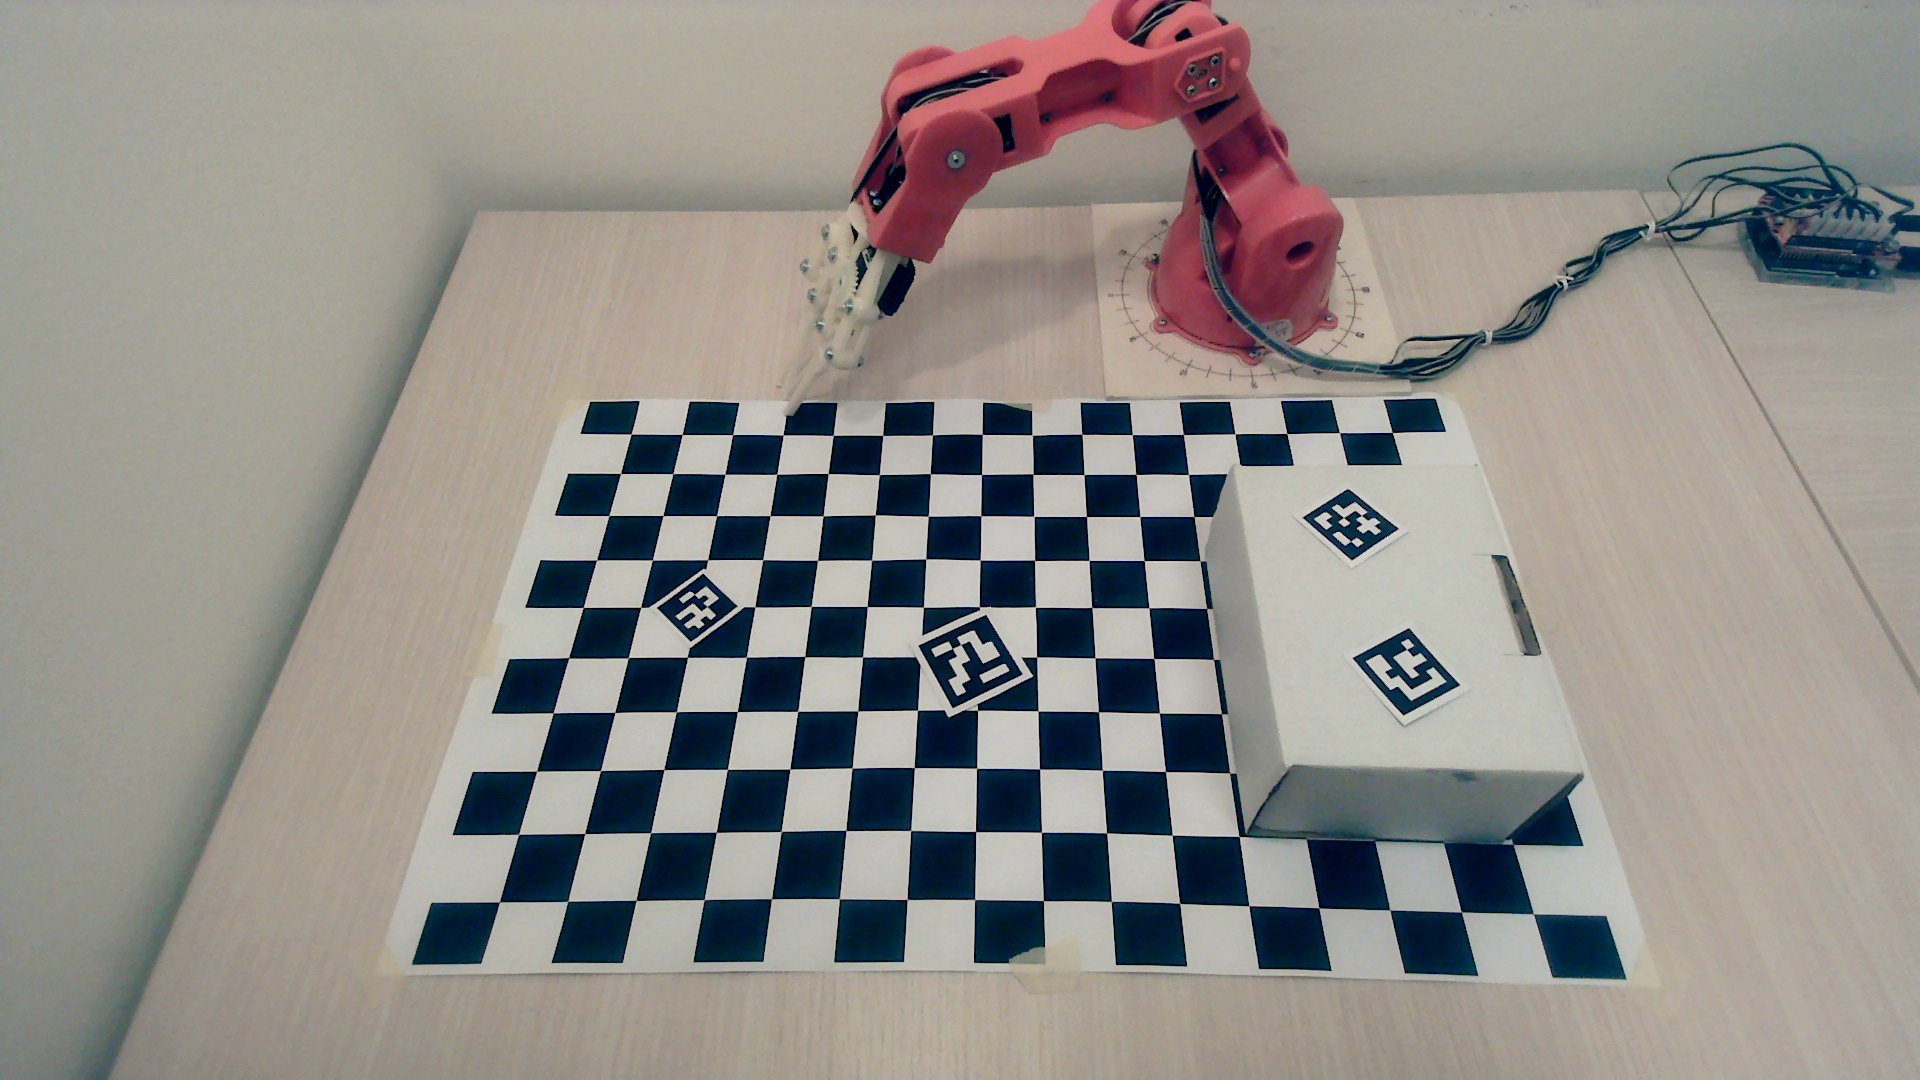marker: (1352, 625, 1466, 721), (919, 611, 1027, 711), (1302, 484, 1403, 564), (651, 571, 741, 650)
